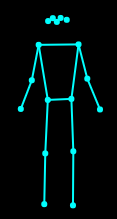mountain: (15, 11, 105, 210)
